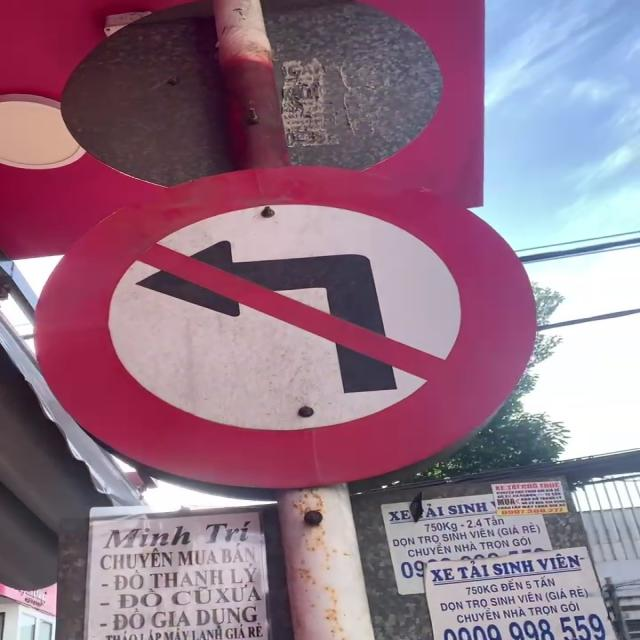Cam_Re_Trai: (32, 178, 536, 488)
